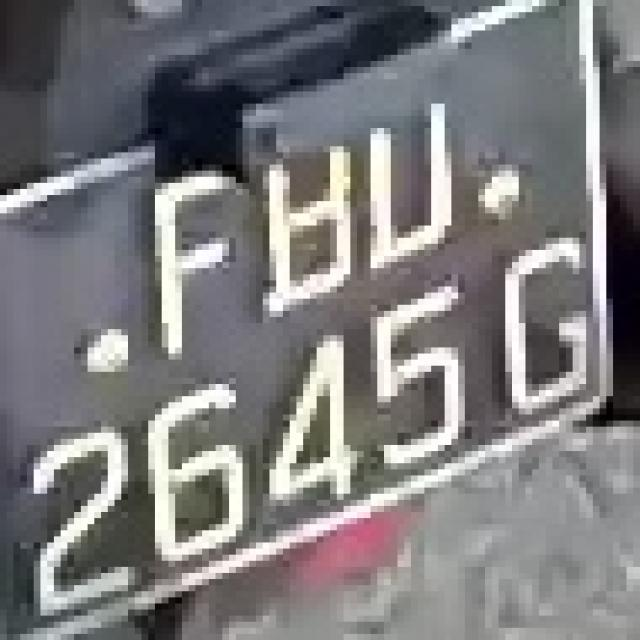2: (20, 432, 155, 610)
4: (250, 317, 378, 530)
5: (357, 298, 478, 482)
6: (121, 384, 256, 561)
B: (236, 110, 364, 317)
D: (357, 79, 451, 268)
F: (134, 116, 242, 372)
G: (472, 226, 613, 463)
